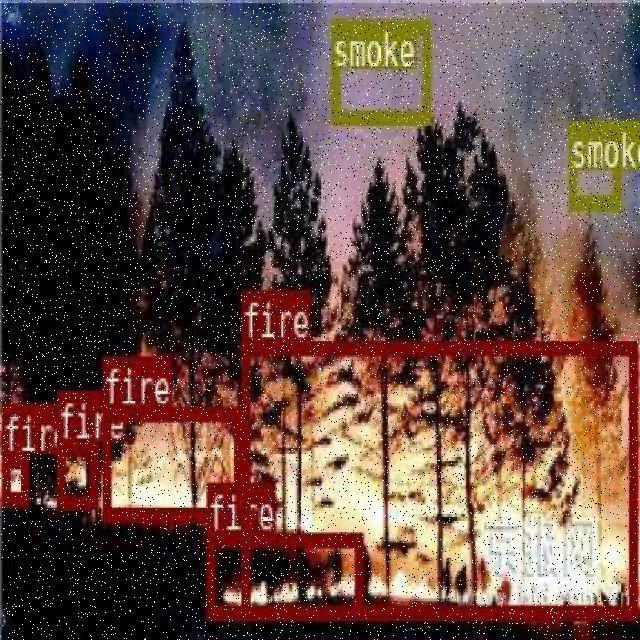Smoke: (329, 15, 427, 120), (560, 54, 613, 143)
